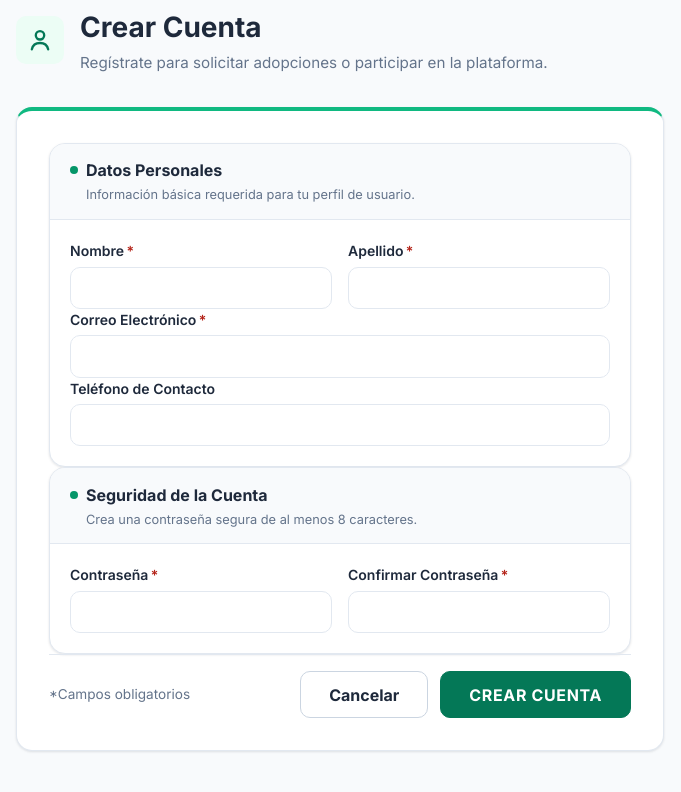
it: UserRegisterPage (HU73) › validates password minimum length and matching confirmation
Type "Anggel" into the field labelled "Nombre*" at [201, 288], box [70,266,332,309]
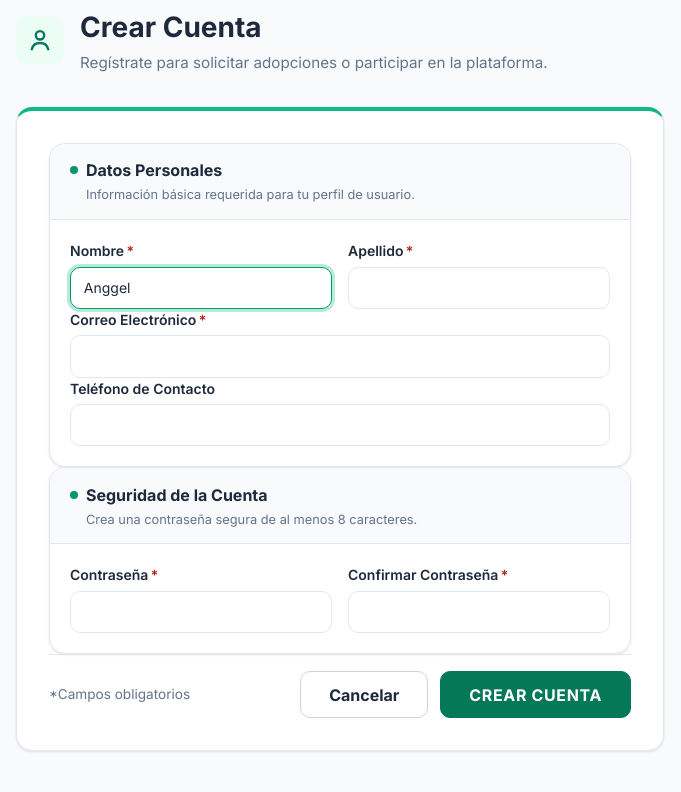
Type "Leal" into the field labelled "Apellido*" at [479, 288], box [348,266,610,309]
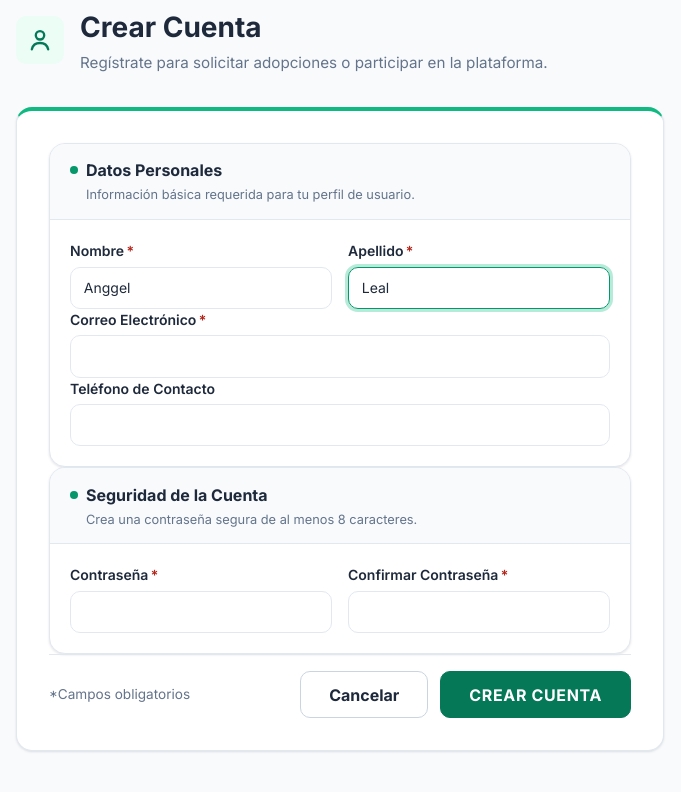
Type "anggel@test.com" into the field labelled "Correo Electrónico*" at [340, 356], box [70,335,610,378]
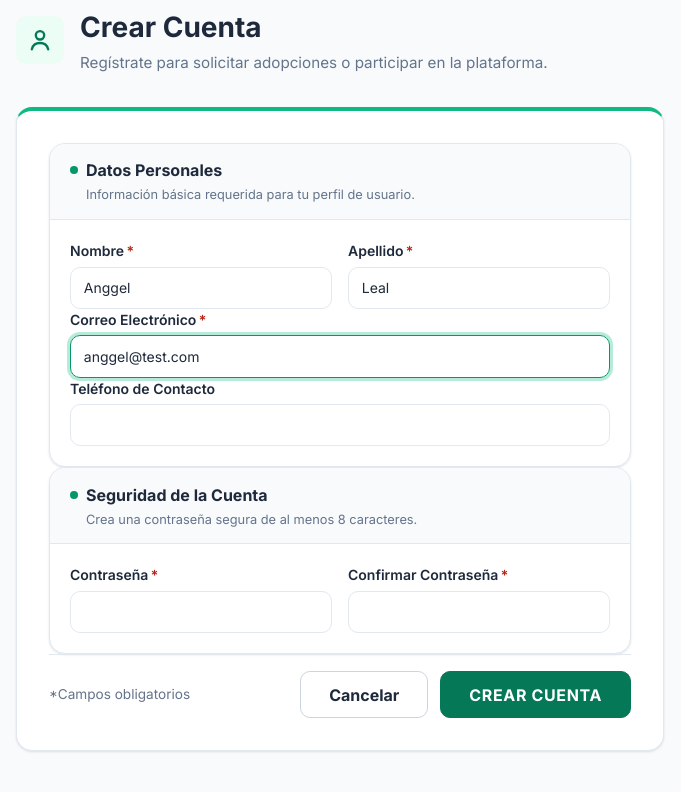
Type "1234" into the password field labelled "Contraseña*" at [201, 612], box [70,591,332,633]
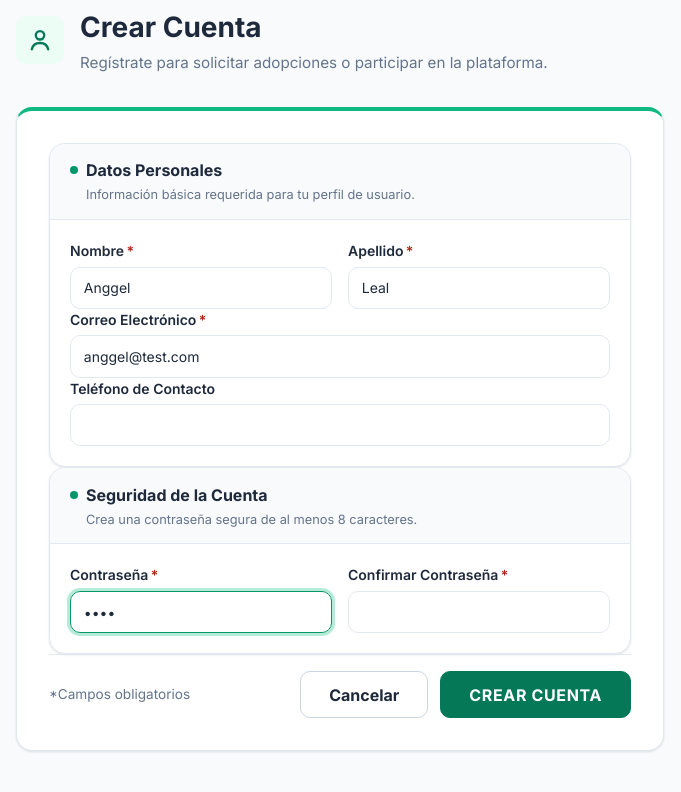
Type "abcd" into the password field labelled "Confirmar Contraseña*" at [479, 612], box [348,591,610,633]
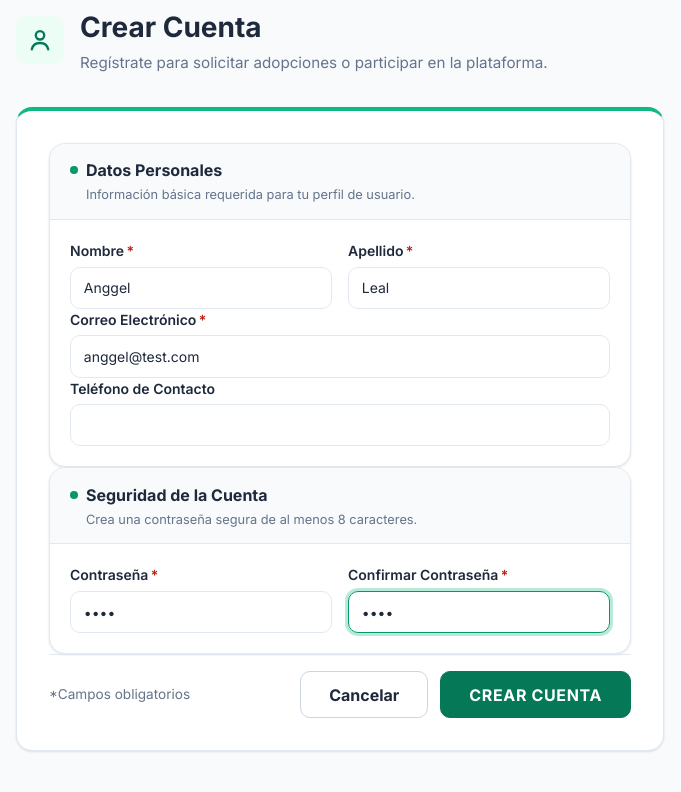
Click the button "Crear cuenta" at [536, 695], box [440,671,631,718]
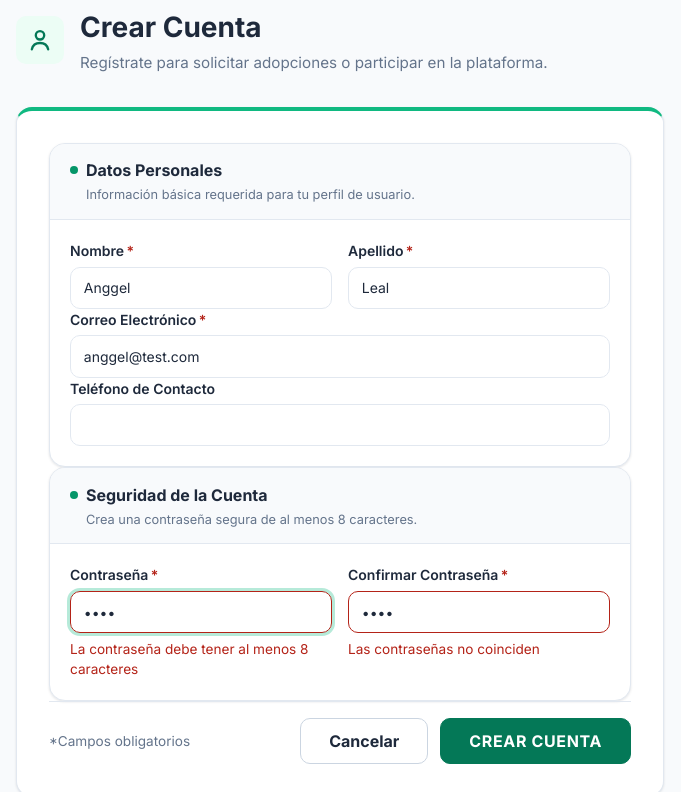
expect the text "La contraseña debe tener al menos 8 caracteres" is shown: met, box [70,639,332,680]
expect the text "Las contraseñas no coinciden" is shown: met, box [348,641,540,657]
